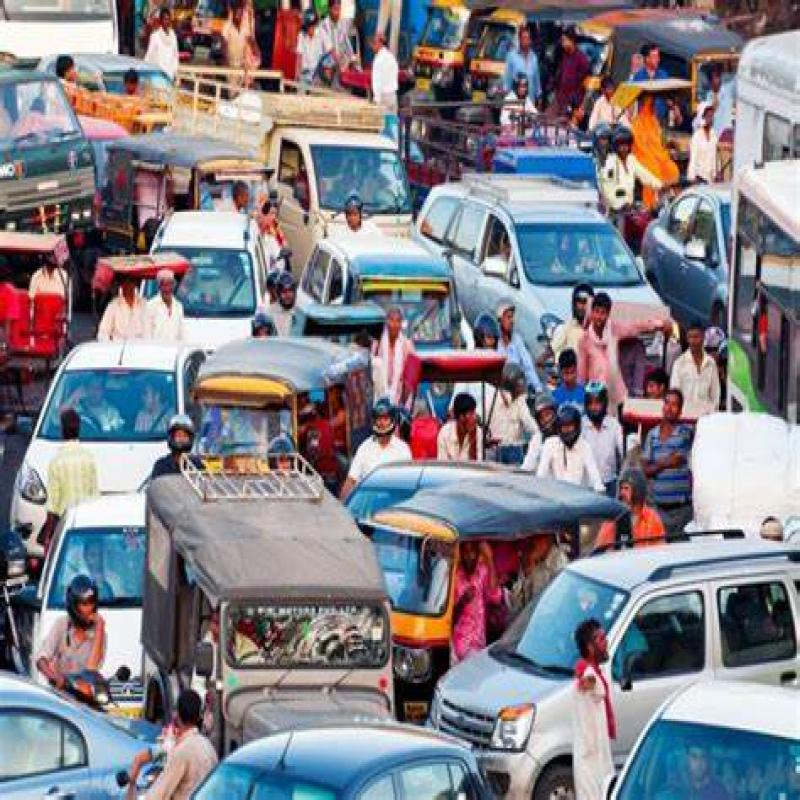car: (417, 481, 790, 790), (422, 163, 659, 384), (9, 331, 194, 541), (175, 719, 479, 800), (155, 181, 284, 344)
